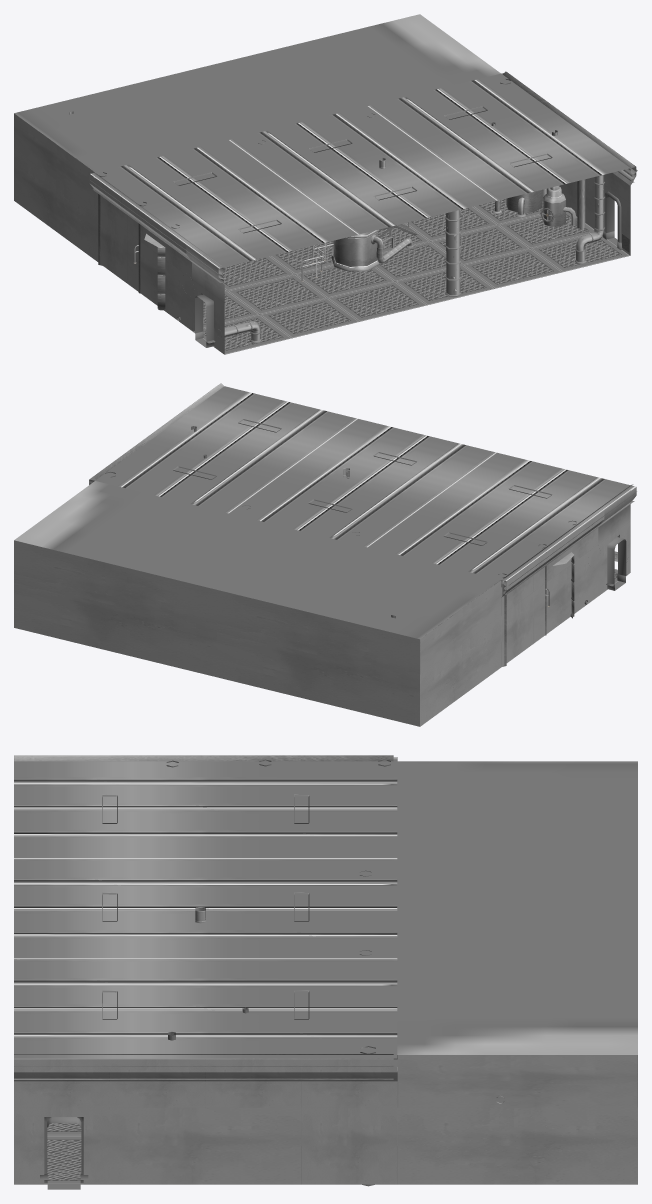
File: MSH_Water_Purification_room_L2_R3_optimized.fbx
The picture shows the model from 3 angles, top to bottom: view 1: azimuth 30°, elevation 25°; view 2: azimuth 150°, elevation 25°; view 3: azimuth 270°, elevation 25°; orthographic projection. The views are drawn at different scales.
Parts seen in each view (by area): view 1: lightmap0, lightmap1, MSH_Water_Purification_room_L2_R3_water, lightmap-1; view 2: lightmap0, lightmap-1, lightmap1; view 3: lightmap0.
Part boxes in pixels (x1,y1,x2,y2): lightmap0: (14, 14, 637, 354); lightmap1: (69, 111, 585, 321); MSH_Water_Purification_room_L2_R3_water: (224, 175, 604, 340); lightmap-1: (195, 182, 617, 347); lightmap0: (14, 383, 636, 726); lightmap-1: (607, 537, 626, 590); lightmap1: (191, 426, 587, 635); lightmap0: (14, 755, 637, 1186).
Bounding box in the file's own units: 31.03 × 7.05 × 26.86.
7 materials, 7 textured.
